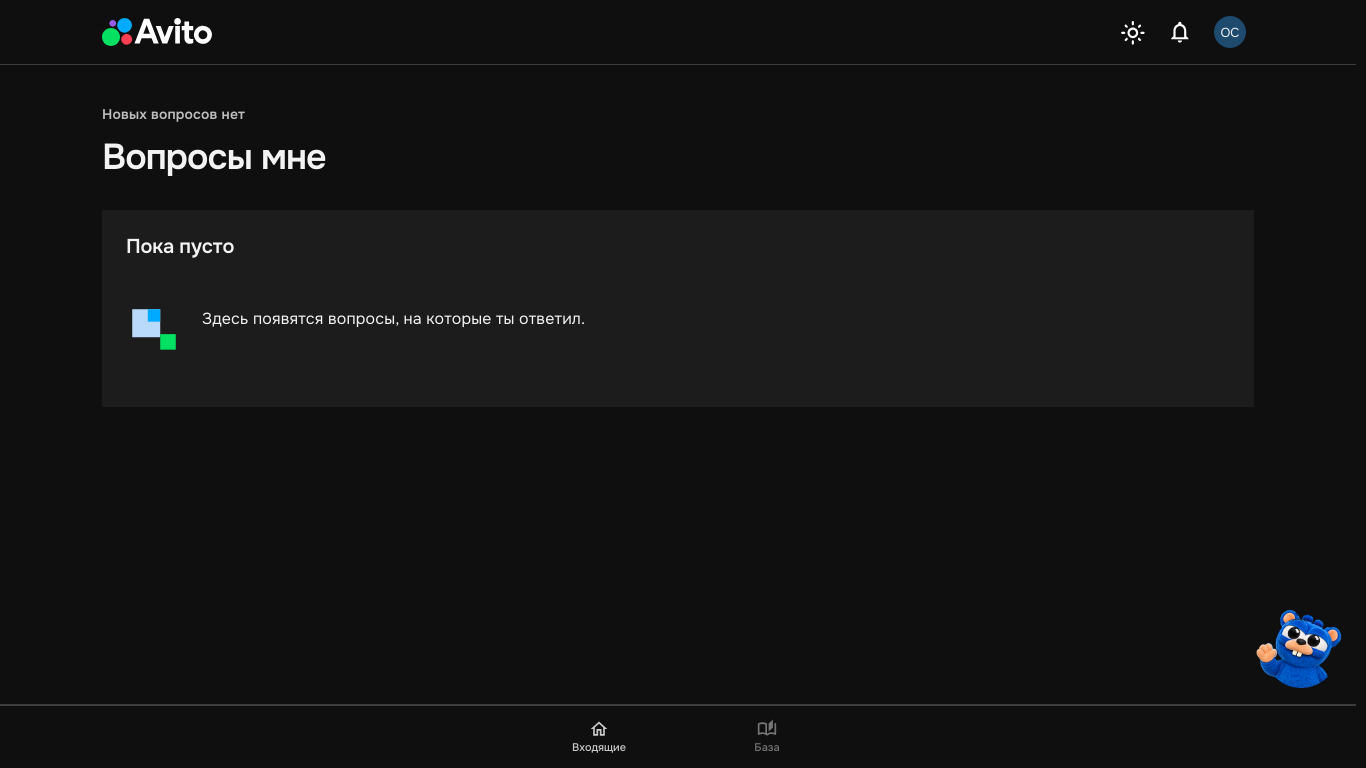
it: телефон, тёмная тема › эксперт без вопросов видит пустые входящие и открывает чат
Expected: the text "Здесь появятся вопросы, на которые ты ответил." is shown, 202,308 -> 585,329
Click the button named "Открыть чат с Напарником". click: (1299, 649)
box: 1256,609 -> 1342,688
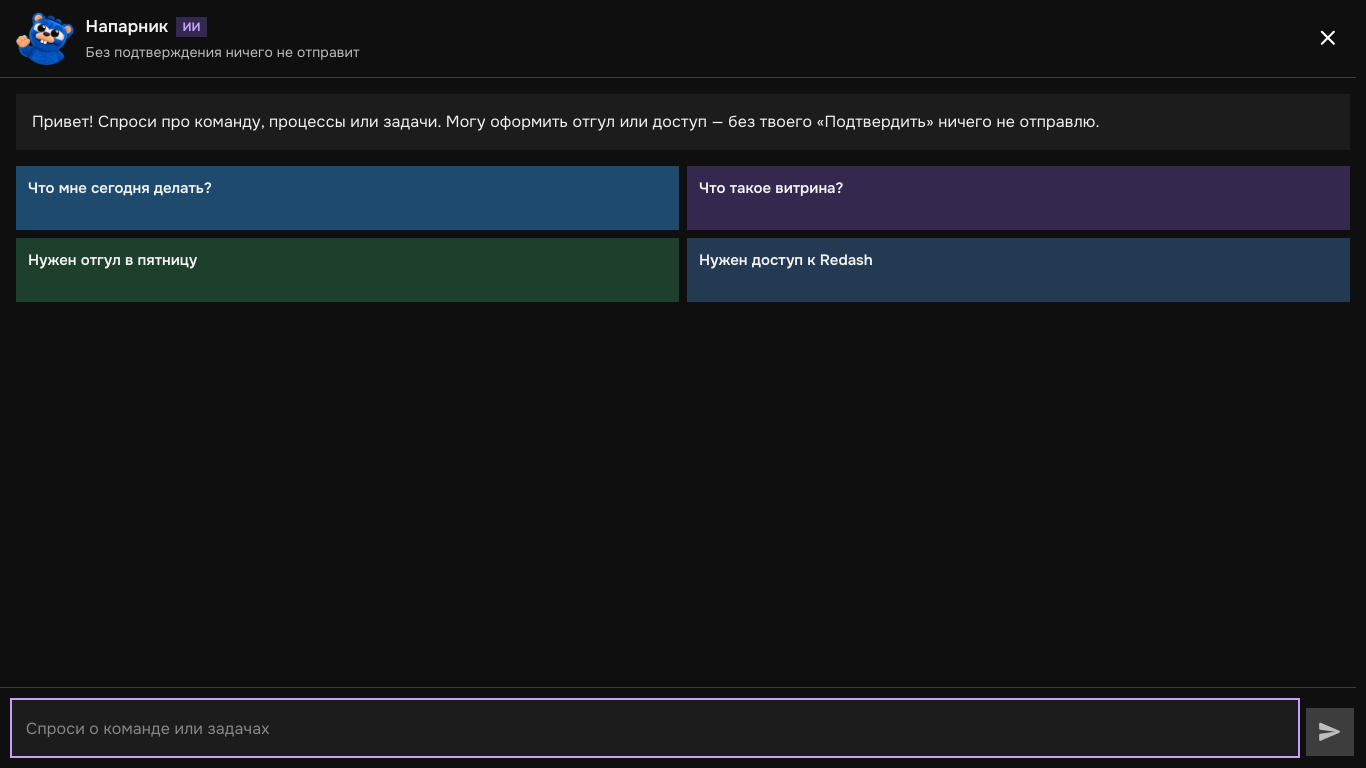
Expected: the text box with placeholder "Спроси о команде или задачах" is shown, 26,716 -> 1284,740
